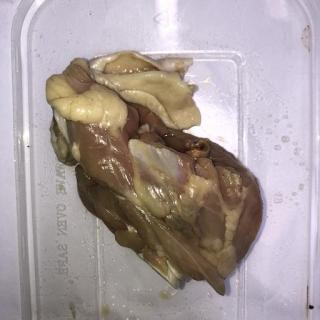Ayam: (45, 50, 265, 298)
